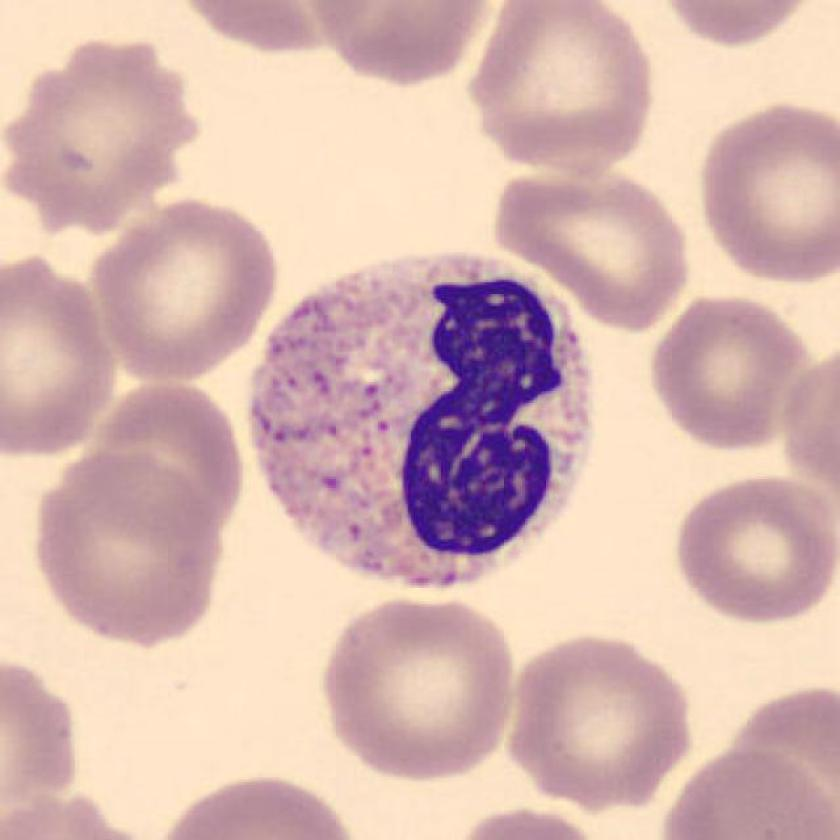neutrophil: (248, 250, 589, 588)
